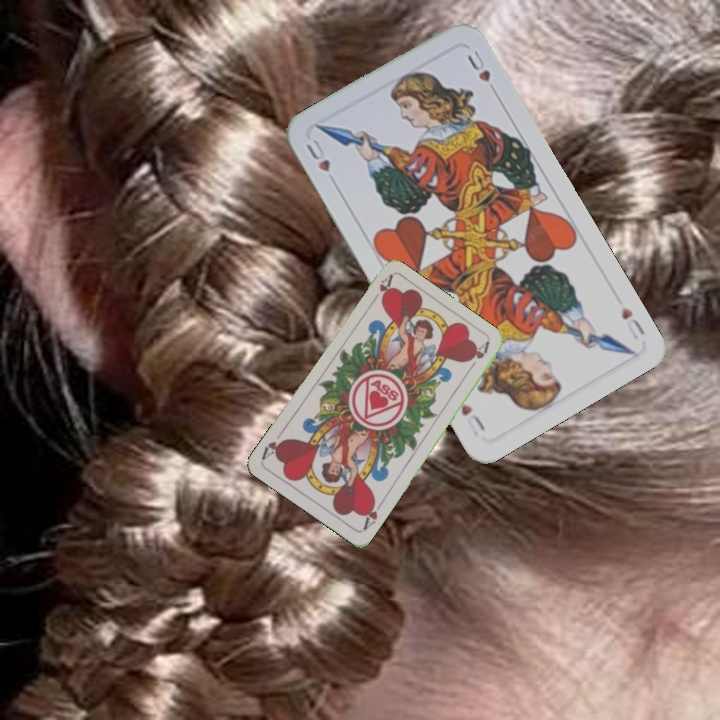HA: (366, 271, 395, 308), (359, 496, 386, 533)
HU: (302, 135, 333, 175), (617, 303, 648, 342)
